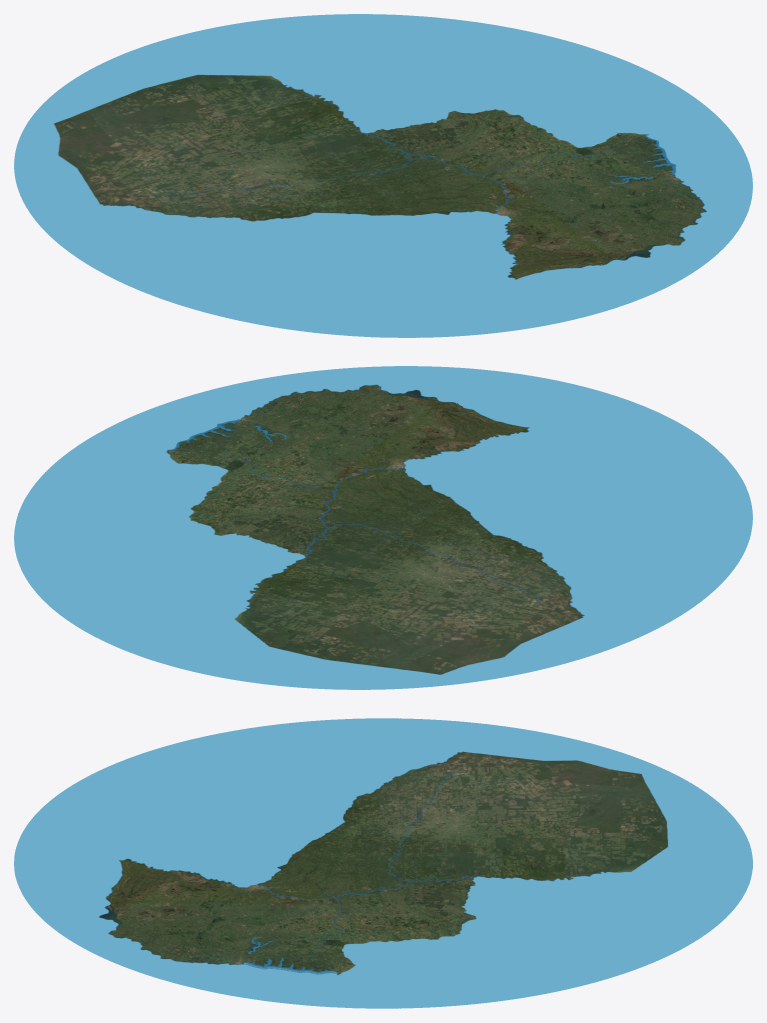
The model's file is PRY-previa-terrain.glb.
3 views of the same model, one above another, from view 1: azimuth 30°, elevation 25°; view 2: azimuth 150°, elevation 25°; view 3: azimuth 270°, elevation 25° (orthographic). The views are drawn at different scales.
Visible parts, largest first — view 1: Paraguai; view 2: Paraguai; view 3: Paraguai.
Boxes of the visible parts, x1,y1,x2,y2 form: Paraguai: (14,14,752,337); Paraguai: (14,366,752,689); Paraguai: (14,718,752,1008).
Size of the model in its own units: 2.12 by 0.0178 by 2.28.
1 material, 1 textured.
